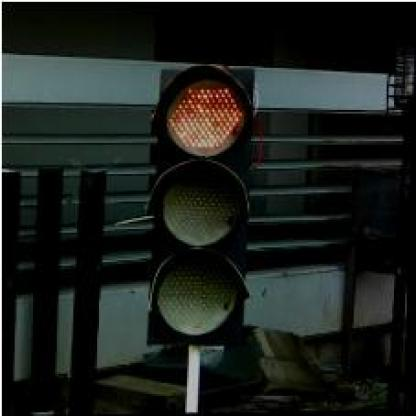red: (146, 65, 256, 346)
